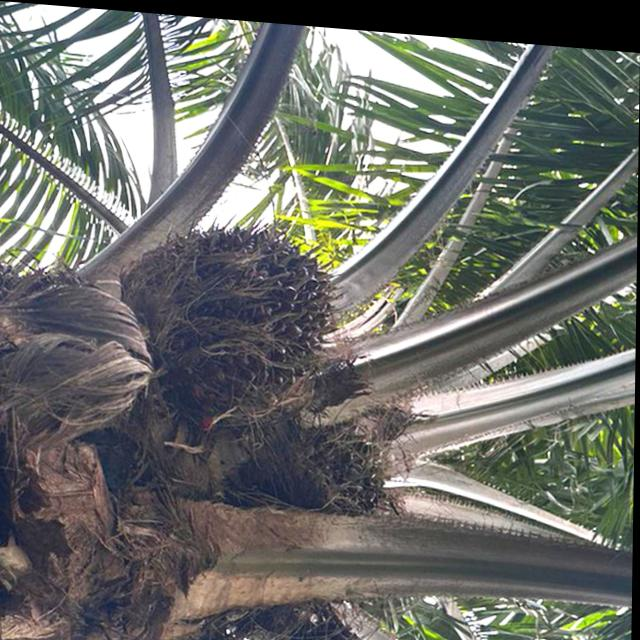unripe: (112, 198, 344, 428), (206, 372, 403, 540)
